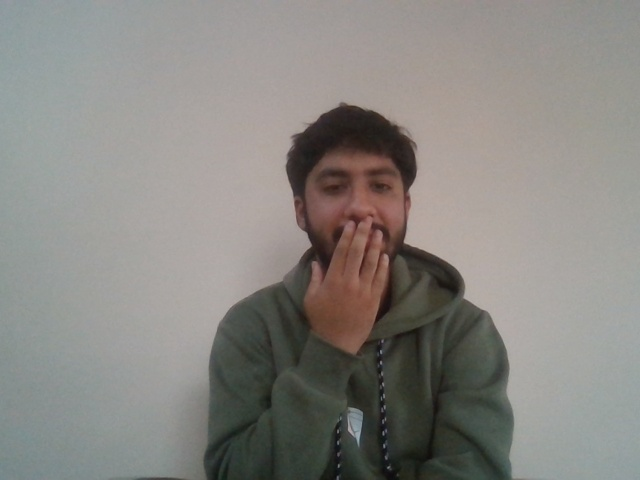Thanks: (289, 212, 442, 343)
